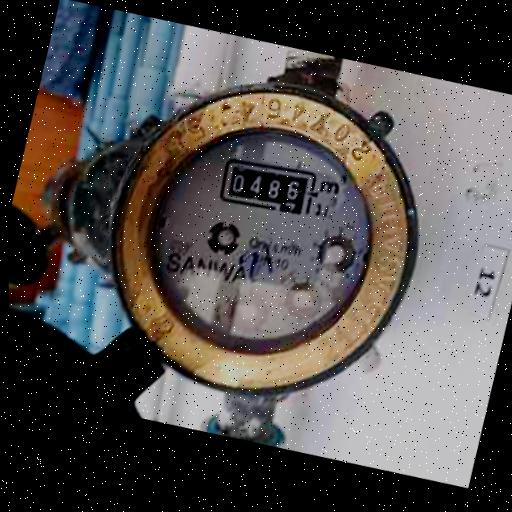0: (225, 163, 252, 199)
4: (242, 167, 270, 202)
6: (276, 172, 309, 217)
8: (259, 170, 287, 204)
border_water_meter_number: (215, 148, 320, 226)
